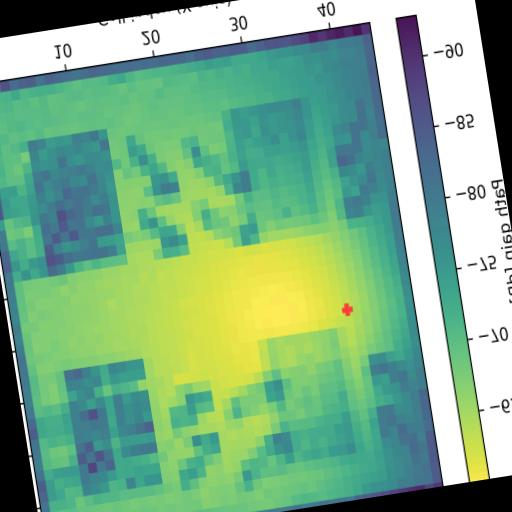Concrete: (257, 326, 364, 466)
Glass: (64, 356, 164, 496)
Metal: (220, 94, 330, 244)
Wood: (26, 128, 128, 276)
